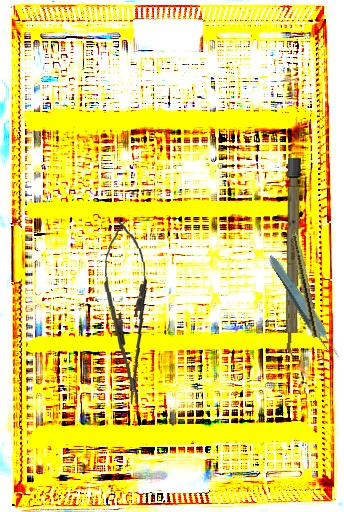Handpiece: (285, 209, 322, 339)
Needle Holder: (99, 218, 156, 407)
Scalpel Handle: (284, 157, 301, 358)
Tissue Forceps: (263, 252, 344, 364)
